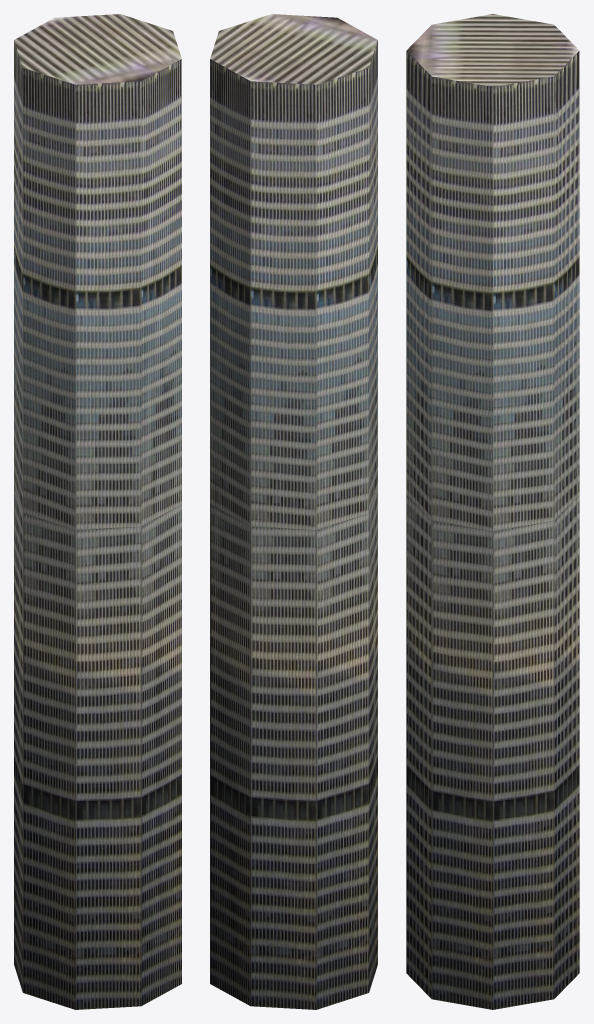
The model's file is sky2.glb.
3 renders of one model, left to right at view 1: azimuth 30°, elevation 25°; view 2: azimuth 150°, elevation 25°; view 3: azimuth 270°, elevation 25°, orthographic.
Parts seen in each view (by area): view 1: sky2; view 2: sky2; view 3: sky2.
Boxes of the visible parts, x1,y1,x2,y2 form: sky2: (14, 14, 181, 1009); sky2: (210, 14, 377, 1009); sky2: (406, 14, 579, 1009).
Size of the model in its own units: 32.29 by 190 by 32.29.
1 material, 1 textured.
